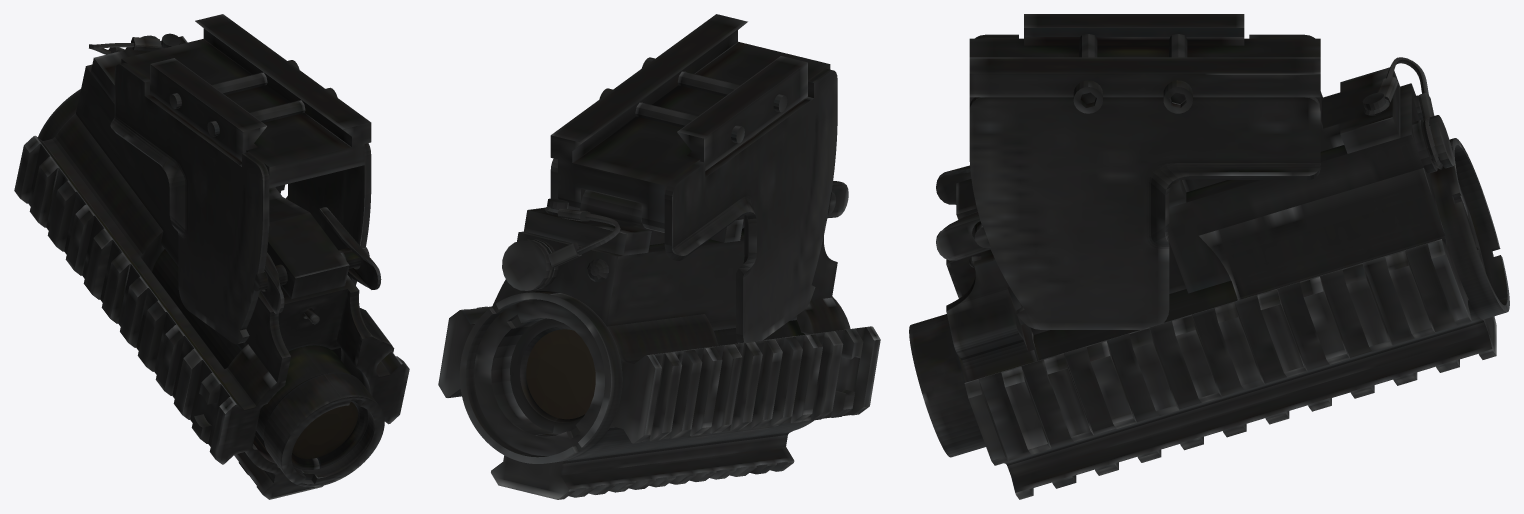
3 views of the same model, side by side, from view 1: azimuth 30°, elevation 25°; view 2: azimuth 150°, elevation 25°; view 3: azimuth 270°, elevation 25° (orthographic). The views are drawn at different scales.
Parts seen in each view (by area): view 1: TW_6284bd5f95250a29bc628a30_range300_PZ_Import; view 2: TW_6284bd5f95250a29bc628a30_range300_PZ_Import; view 3: TW_6284bd5f95250a29bc628a30_range300_PZ_Import.
Part boxes in pixels (bbox=[...]): TW_6284bd5f95250a29bc628a30_range300_PZ_Import: bbox=[14, 14, 409, 499]; TW_6284bd5f95250a29bc628a30_range300_PZ_Import: bbox=[438, 14, 880, 499]; TW_6284bd5f95250a29bc628a30_range300_PZ_Import: bbox=[909, 14, 1509, 499].
Bounding box in the file's own units: 0.0322 × 0.0767 × 0.0623.
Materials: 1 (1 with a texture image).
